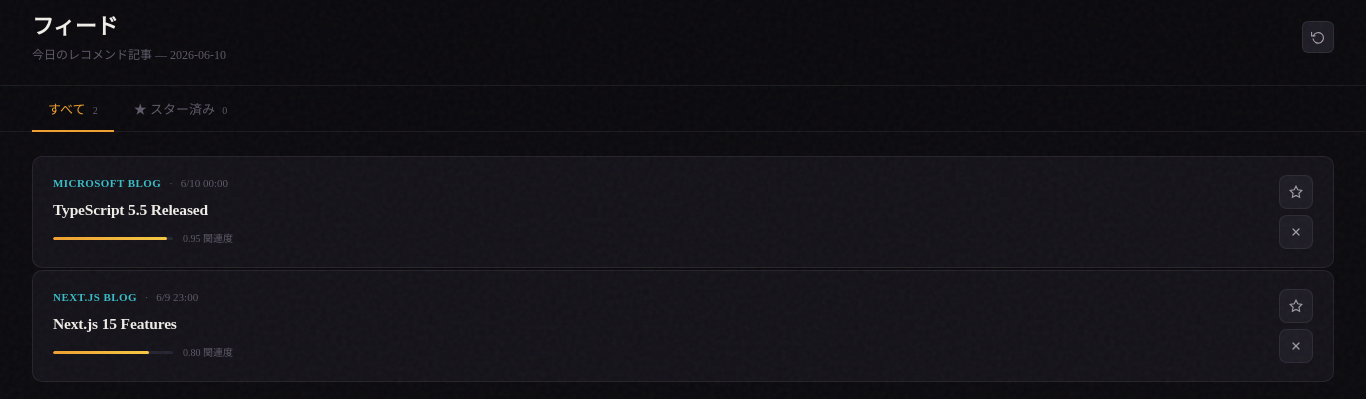
FeedPage — Dismiss › Given dismiss succeeds, removes card from list immediately
Check: the link "TypeScript 5.5 Released" is shown, box [53, 201, 208, 218]
What coordinates should you click on to do the following:
click the button named "非表示" in the row of "TypeScript 5.5 Released"
I would click on:
 (1296, 232)
Its box is [1279, 215, 1313, 249].
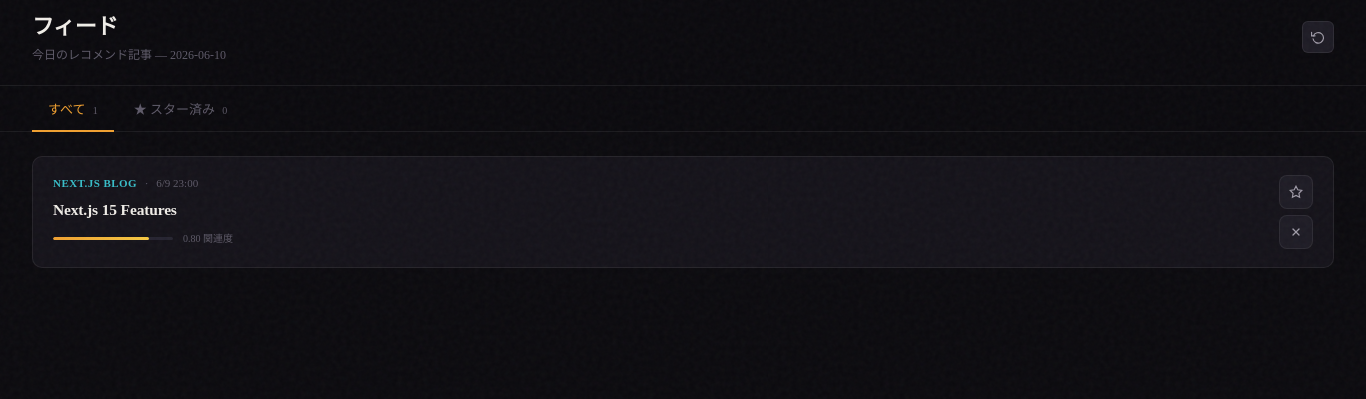
Check: the link "TypeScript 5.5 Released" is gone
